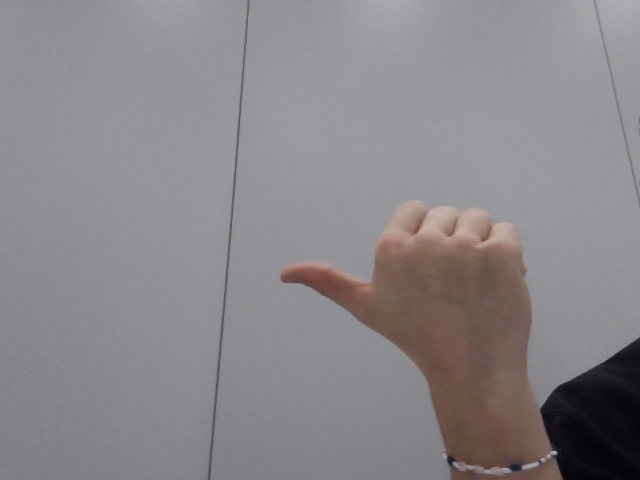right: (265, 184, 560, 402)
